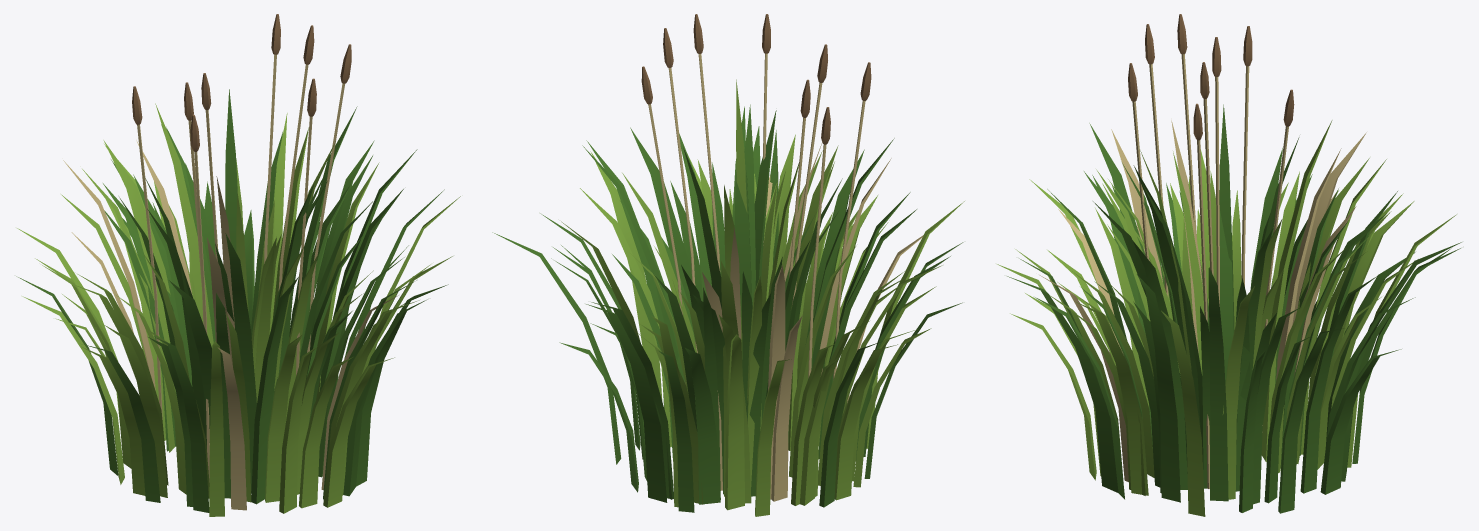
The model's file is TallGrass.fbx.
The picture shows the model from 3 angles, left to right: view 1: azimuth 30°, elevation 25°; view 2: azimuth 150°, elevation 25°; view 3: azimuth 270°, elevation 25°; orthographic projection.
Visible parts, largest first — view 1: TallGrass_Mesh; view 2: TallGrass_Mesh; view 3: TallGrass_Mesh.
Boxes of the visible parts, box(x1,y1,x2,y2) form: TallGrass_Mesh: box(16, 14, 460, 516); TallGrass_Mesh: box(492, 14, 964, 516); TallGrass_Mesh: box(997, 14, 1461, 516).
Bounding box in the file's own units: 1.07 × 1.14 × 1.13.
